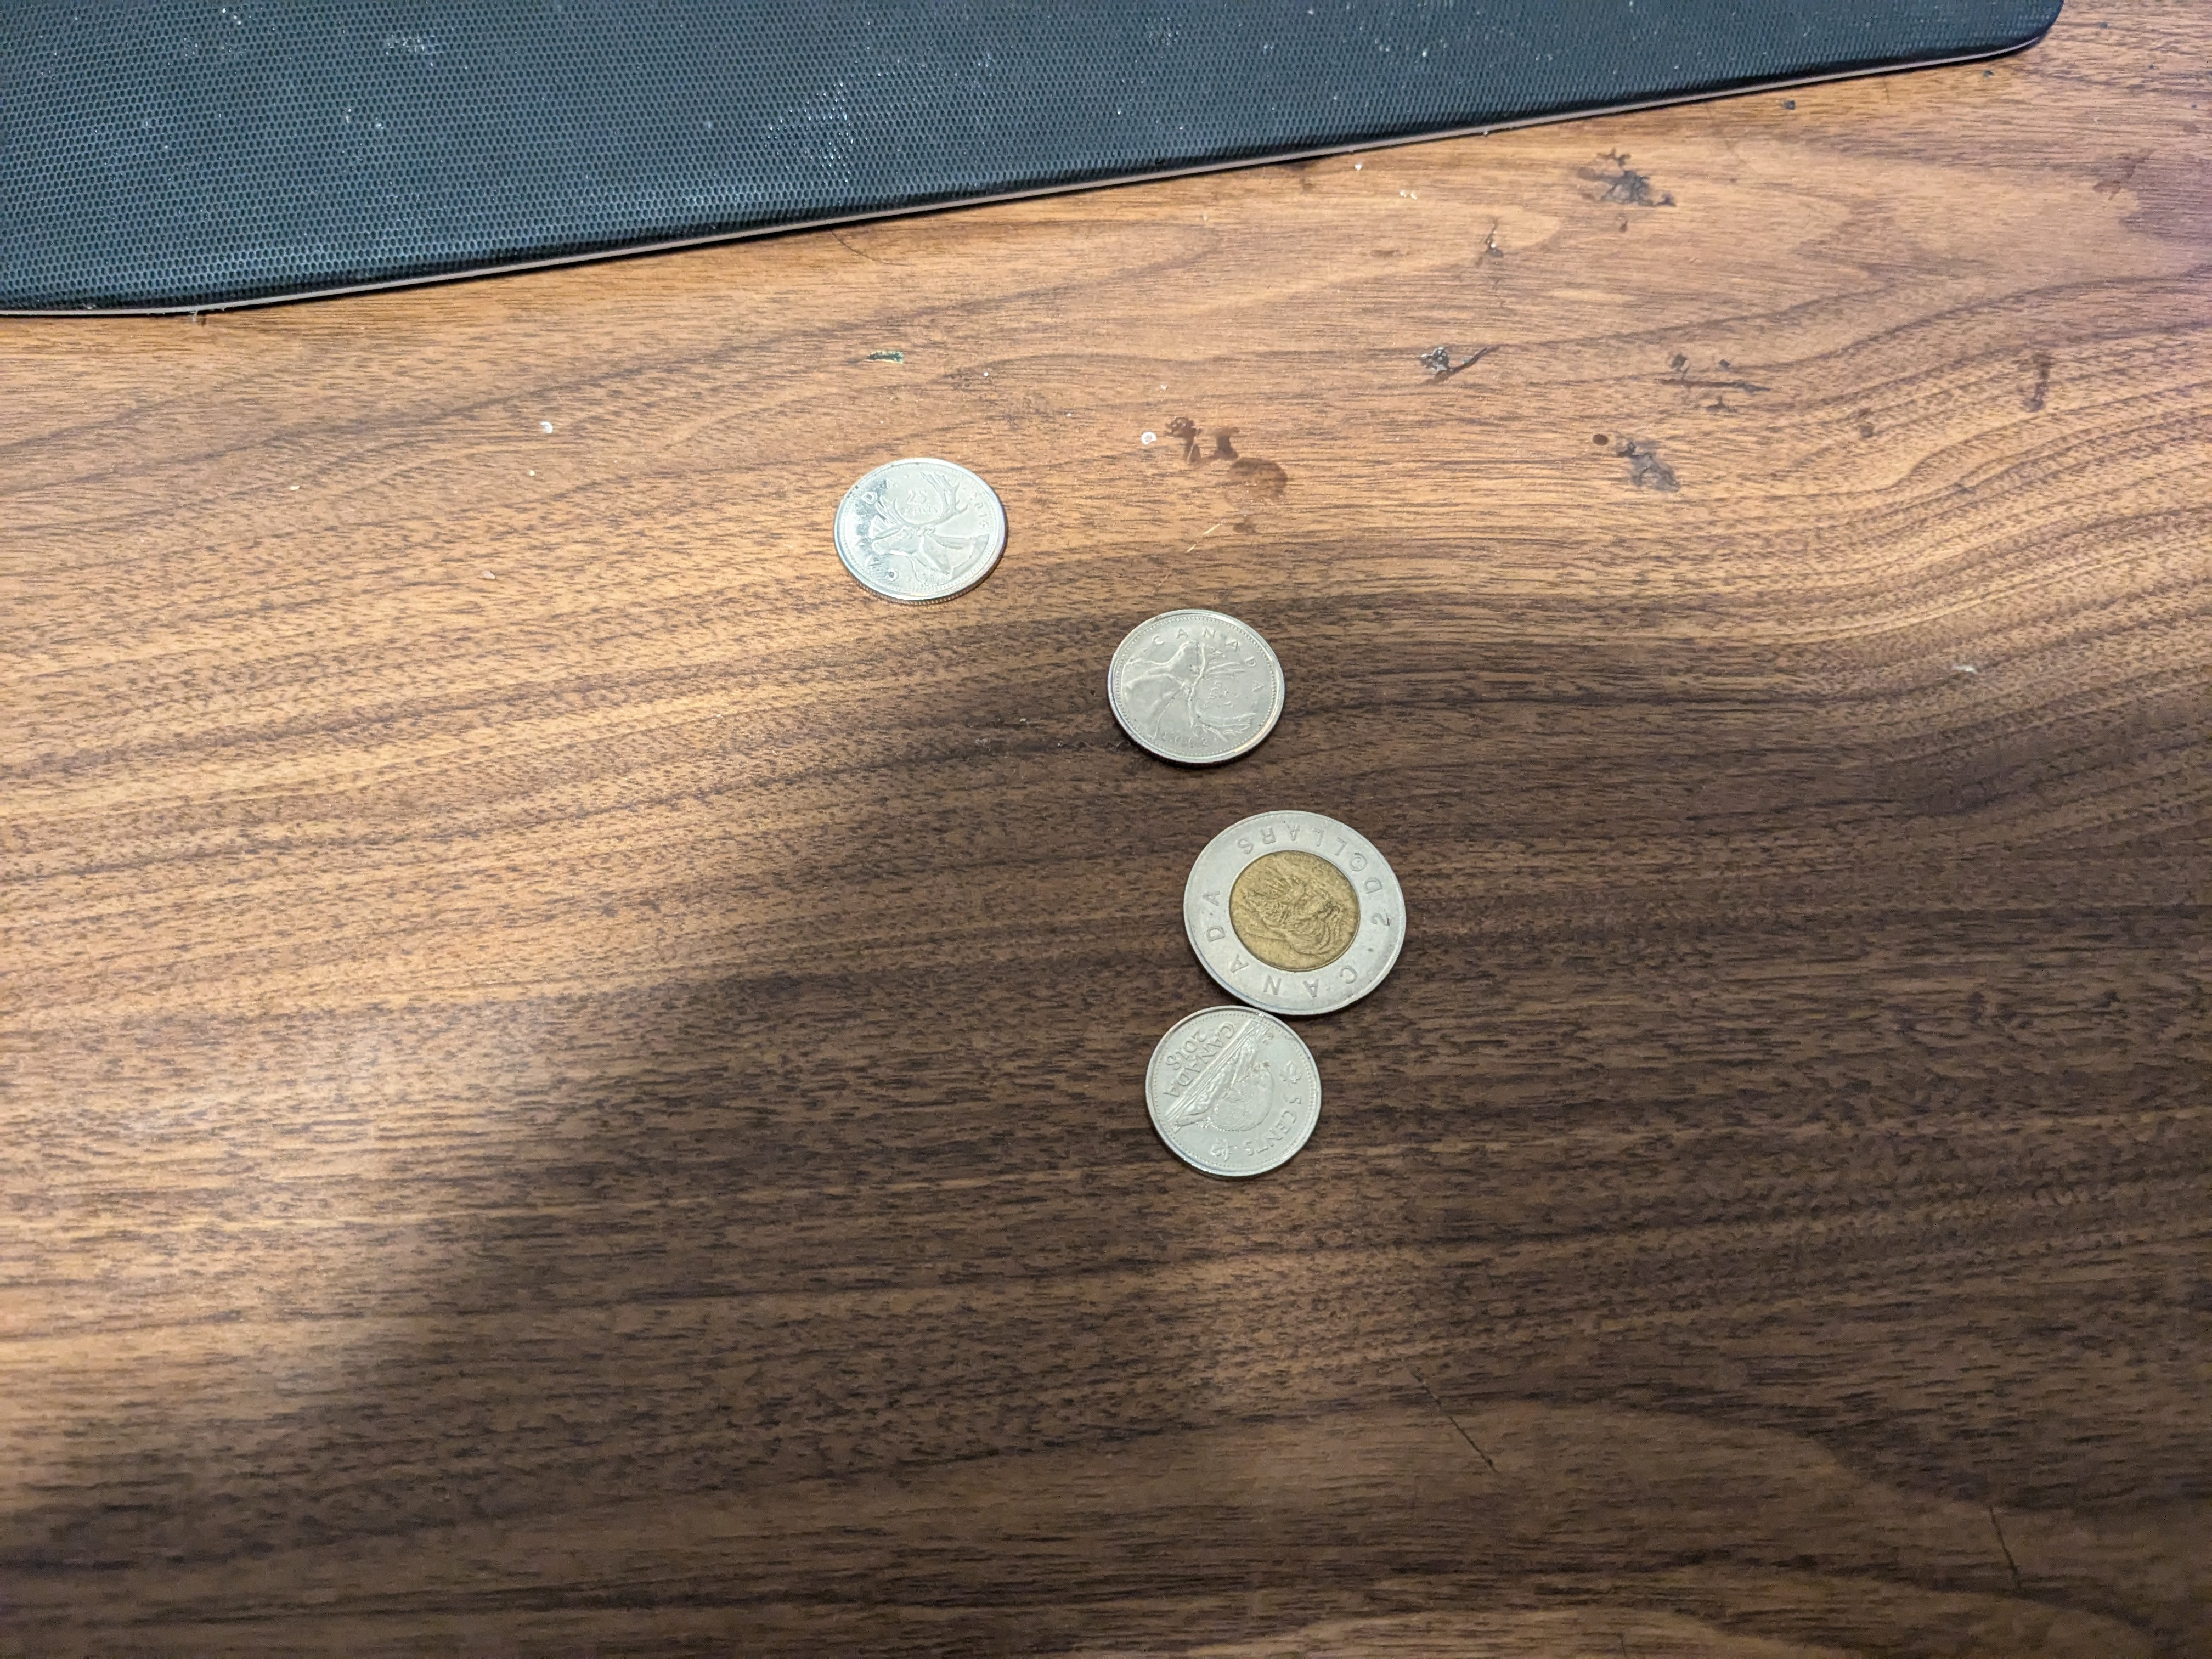nickel: (1153, 1009, 1317, 1173)
quarter: (1094, 605, 1285, 772), (833, 453, 1014, 601)
toonie: (1188, 809, 1404, 1021)
